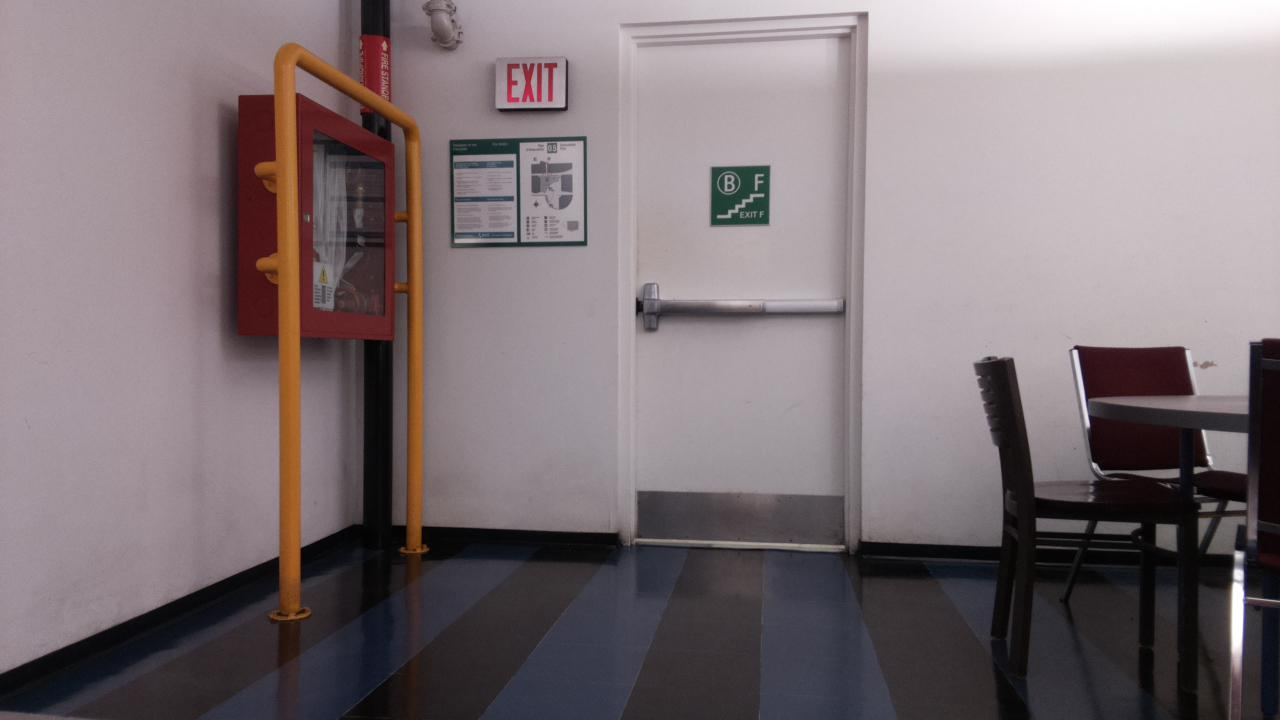door: (637, 38, 848, 547)
sign: (450, 135, 586, 246), (710, 165, 769, 226), (495, 57, 564, 108)
